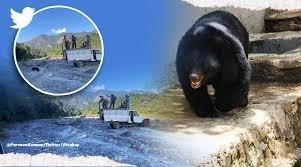bear: (175, 10, 251, 118)
